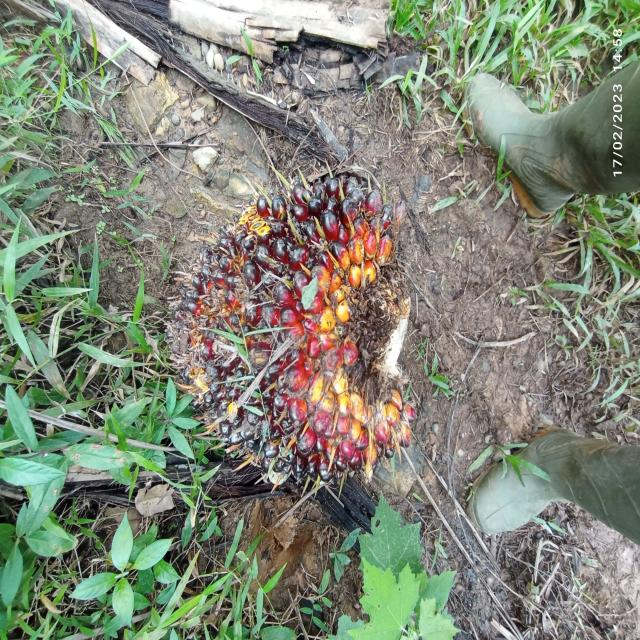fraksi 1: (145, 154, 437, 510)
